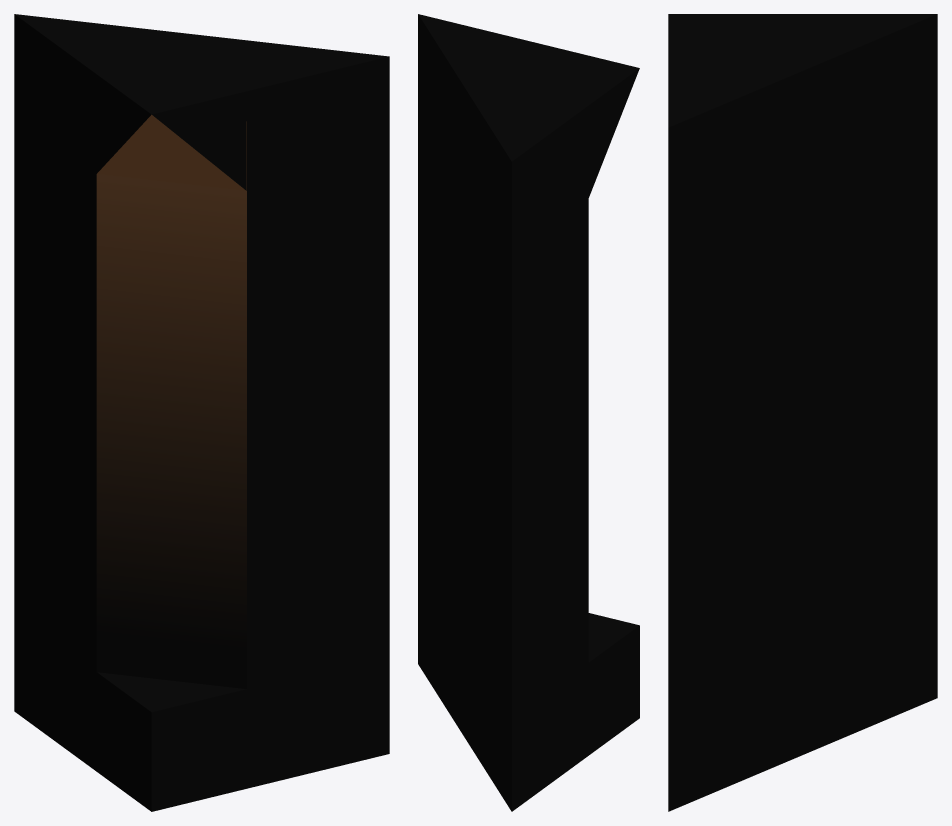
Rendered from hole_corner1.FBX.
3 views of the same model, side by side, from view 1: azimuth 30°, elevation 25°; view 2: azimuth 150°, elevation 25°; view 3: azimuth 270°, elevation 25° (orthographic). The views are drawn at different scales.
Visible parts, largest first — view 1: hole_corner1, hole_corner1_step, hole_corner1_trim; view 2: hole_corner1, hole_corner1_step, hole_corner1_trim; view 3: hole_corner1, hole_corner1_trim.
Boxes of the visible parts, bbox=[...] form: hole_corner1: bbox=[14, 14, 389, 788]; hole_corner1_step: bbox=[96, 672, 246, 811]; hole_corner1_trim: bbox=[96, 74, 246, 190]; hole_corner1: bbox=[418, 14, 588, 811]; hole_corner1_step: bbox=[588, 613, 639, 755]; hole_corner1_trim: bbox=[551, 46, 639, 197]; hole_corner1: bbox=[668, 14, 937, 811]; hole_corner1_trim: bbox=[668, 14, 775, 59].
Bounding box in the file's own units: 50 × 140 × 50.
